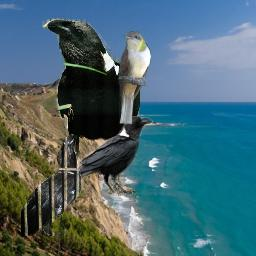Crow: (42, 18, 140, 196), (58, 113, 154, 196), (21, 134, 81, 236)
Cuckoo: (117, 31, 151, 124)
